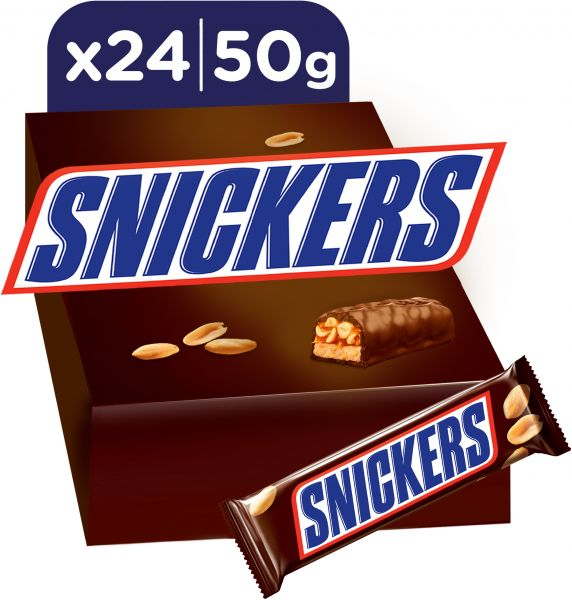snickers: (21, 151, 484, 282), (296, 399, 492, 547)
